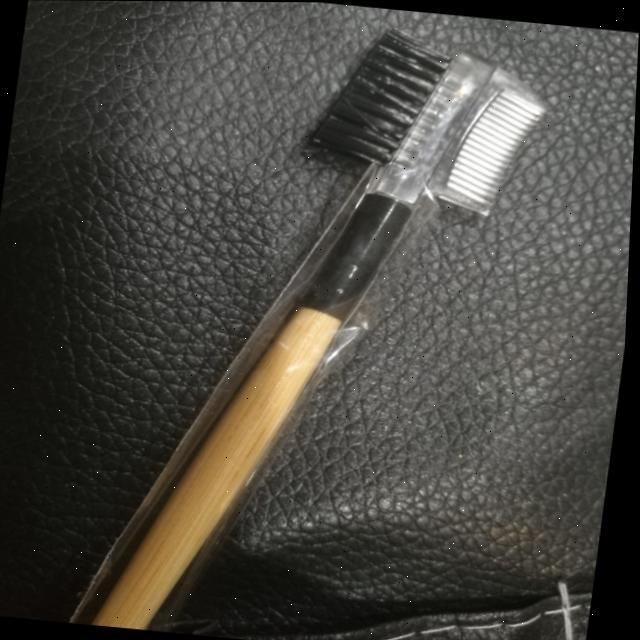brush: (38, 0, 576, 640)
